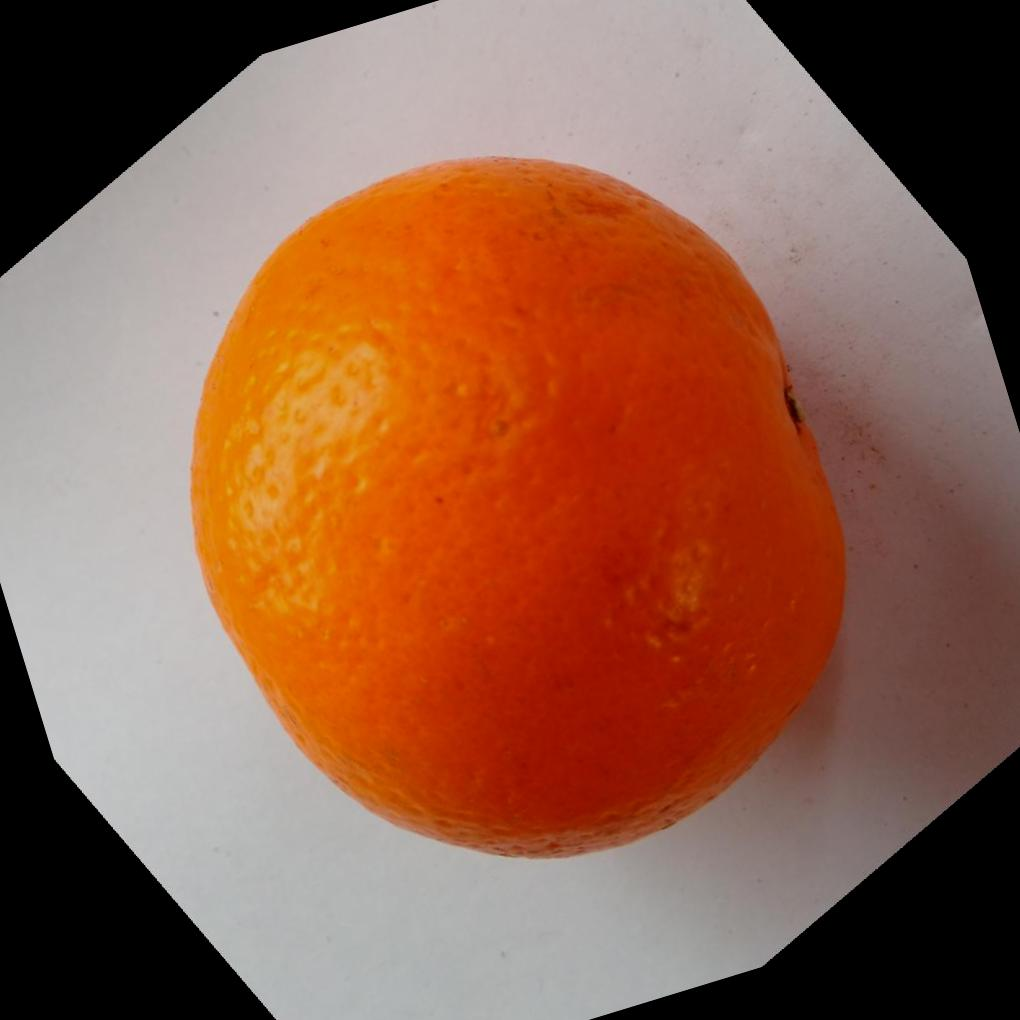FreshGuava: (186, 149, 847, 856)
